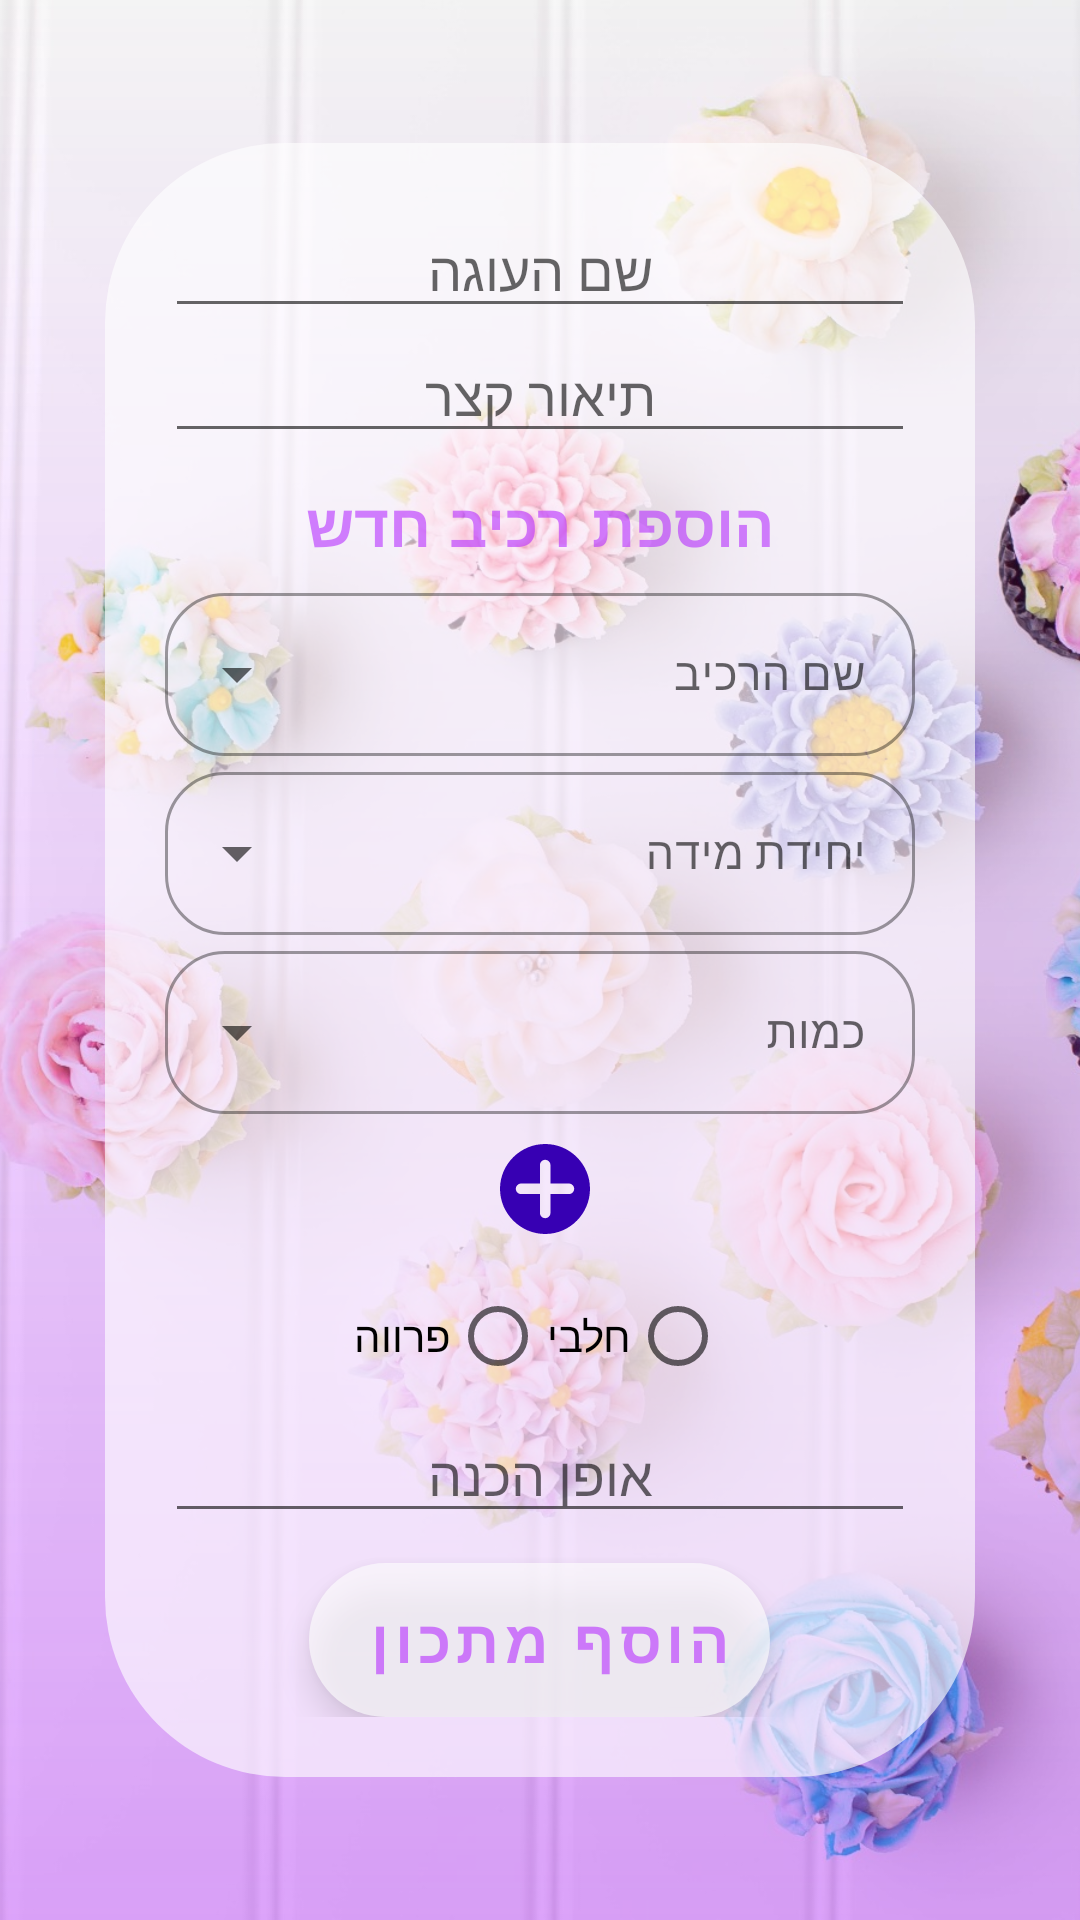

Named icons in this screenshot (1080px x 1920px) and their bounding boxes, box(x1, y1, x2, y2):
add: box(500, 1144, 590, 1262)
